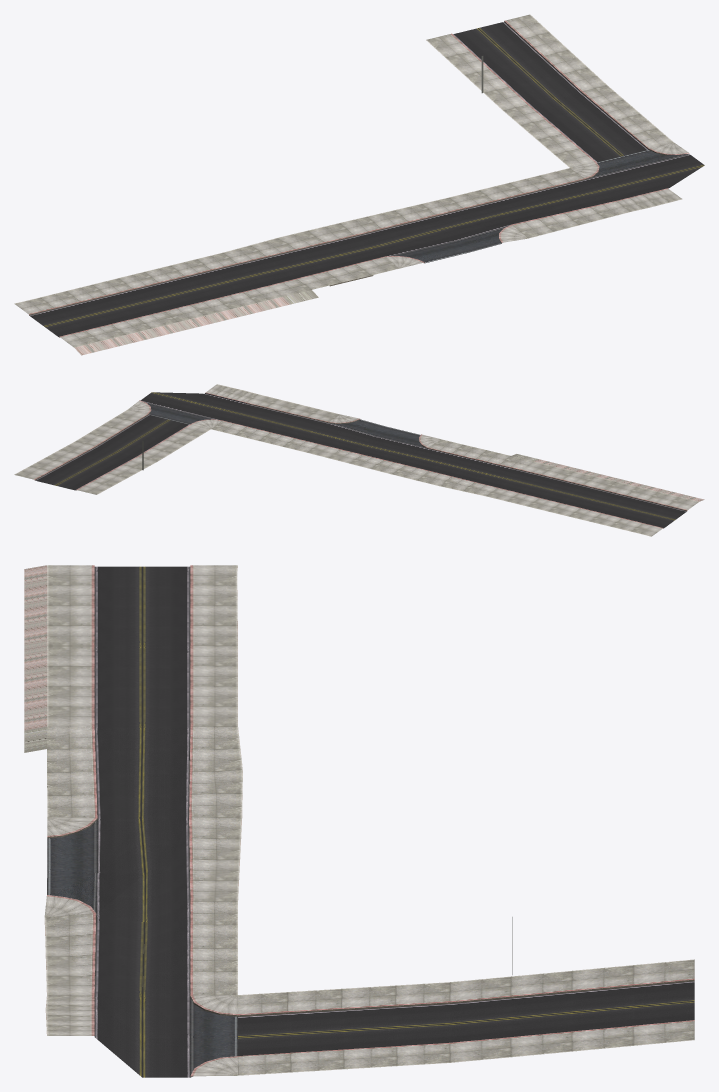
The model's file is road_lawn03.obj.
3 renders of one model, top to bottom at view 1: azimuth 30°, elevation 25°; view 2: azimuth 150°, elevation 25°; view 3: azimuth 270°, elevation 25°, orthographic. The views are drawn at different scales.
Parts seen in each view (by area): view 1: road_lawn03; view 2: road_lawn03; view 3: road_lawn03.
Part boxes in pixels (x1,y1,x2,y2): road_lawn03: (14,14,704,355); road_lawn03: (14,384,704,536); road_lawn03: (24,565,694,1077).
Size of the model in its own units: 127 by 9.47 by 70.15.
